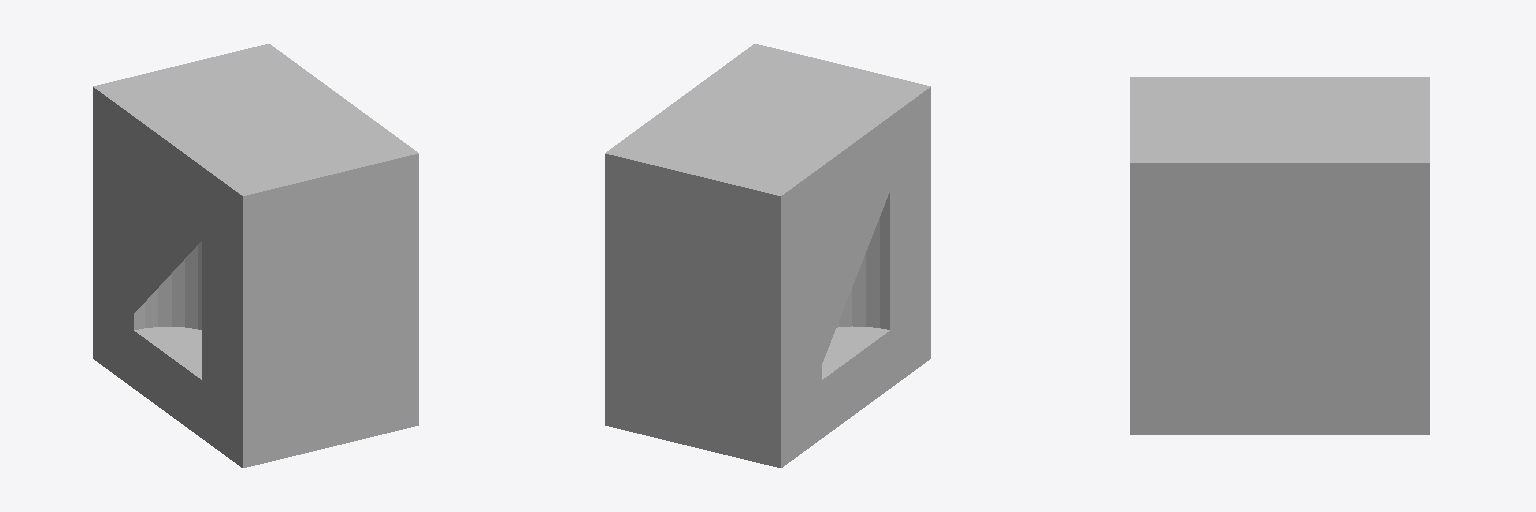
File: cylinderContainer.obj
3 renders of one model, left to right at view 1: azimuth 30°, elevation 25°; view 2: azimuth 150°, elevation 25°; view 3: azimuth 270°, elevation 25°, orthographic.
Visible parts, largest first — view 1: Cube_Cube.005; view 2: Cube_Cube.005; view 3: Cube_Cube.005.
Boxes of the visible parts, x1=… form: Cube_Cube.005: x1=93, y1=44, x2=418, y2=467; Cube_Cube.005: x1=605, y1=44, x2=930, y2=467; Cube_Cube.005: x1=1130, y1=77, x2=1429, y2=434.
Bounding box in the file's own units: 4.2 × 6.2 × 6.2.